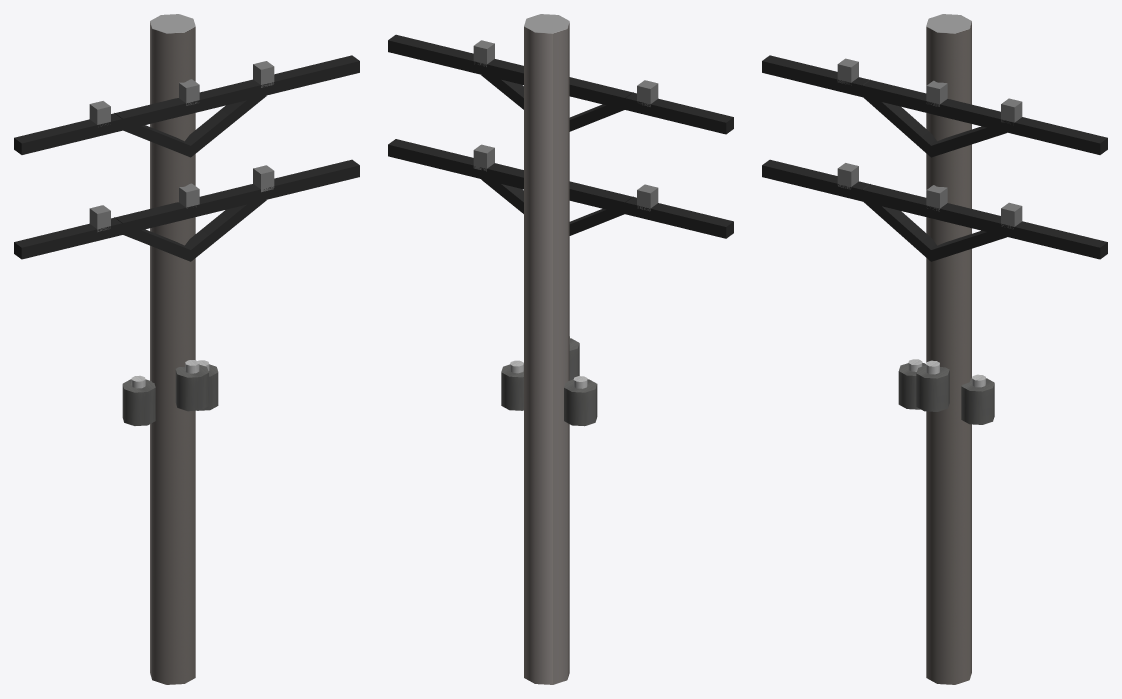
Rendered from Pole.FBX.
3 views of the same model, side by side, from view 1: azimuth 30°, elevation 25°; view 2: azimuth 150°, elevation 25°; view 3: azimuth 330°, elevation 25° (orthographic).
Visible parts, largest first — view 1: pole; view 2: pole; view 3: pole.
Boxes of the visible parts, box(x1,y1,x2,y2) form: pole: box(14, 14, 359, 684); pole: box(388, 14, 733, 684); pole: box(762, 14, 1107, 684).
Size of the model in its own units: 8.25 by 1.61 by 15.2.
